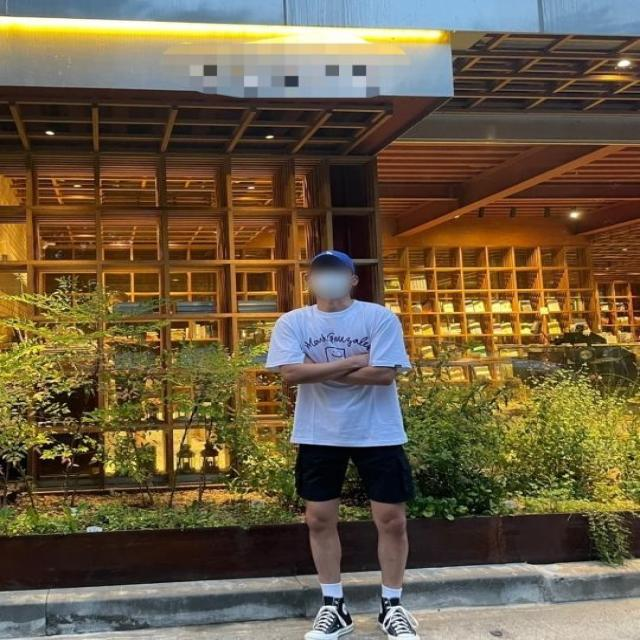shortpants: (297, 440, 413, 506)
shortsleeve: (264, 301, 410, 444)
